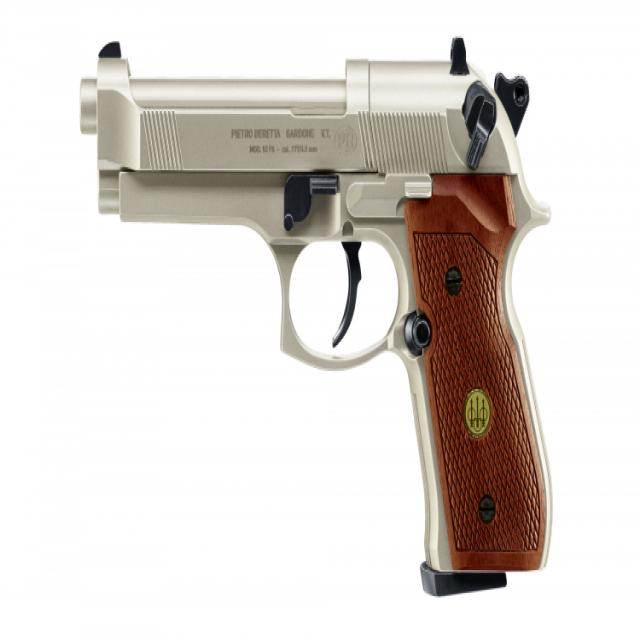Gun: (79, 36, 583, 630)
